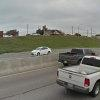Car: (20, 40, 56, 60)
